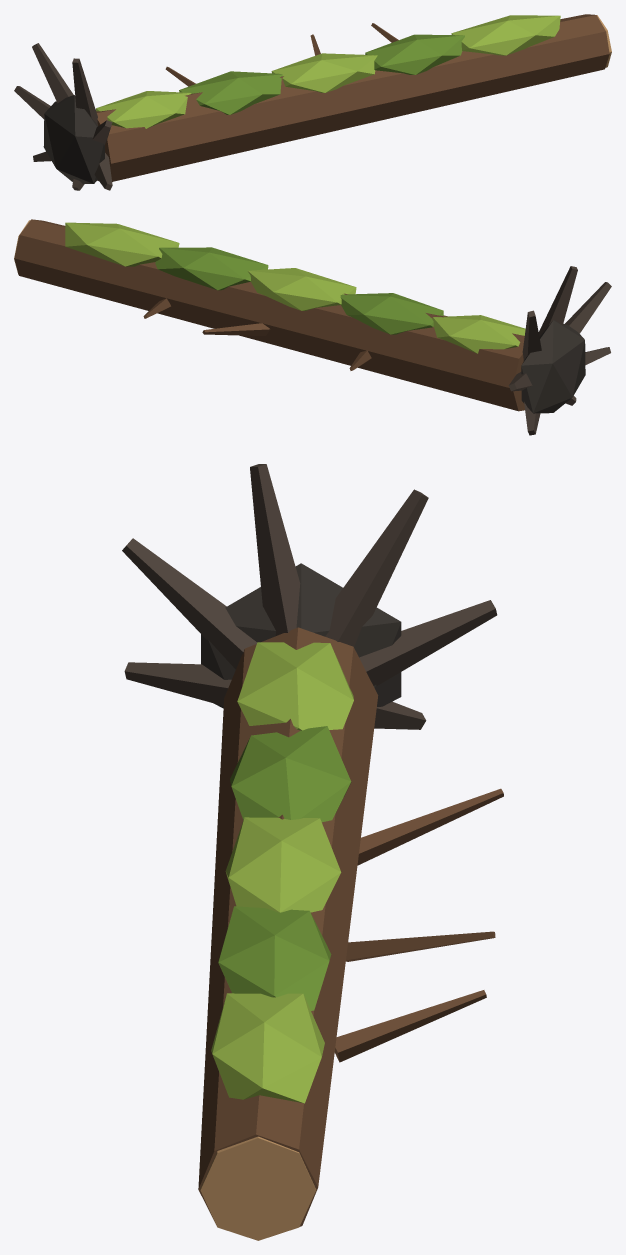
The model's file is forest_log.glb.
3 renders of one model, top to bottom at view 1: azimuth 30°, elevation 25°; view 2: azimuth 150°, elevation 25°; view 3: azimuth 270°, elevation 25°, orthographic. The views are drawn at different scales.
Parts seen in each view (by area): view 1: forest_log; view 2: forest_log; view 3: forest_log.
Boxes of the visible parts, x1,y1,x2,y2 form: forest_log: (14,14,611,190); forest_log: (14,219,611,435); forest_log: (122,464,503,1240).
Bounding box in the file's own units: 5.72 × 1.38 × 1.78.
